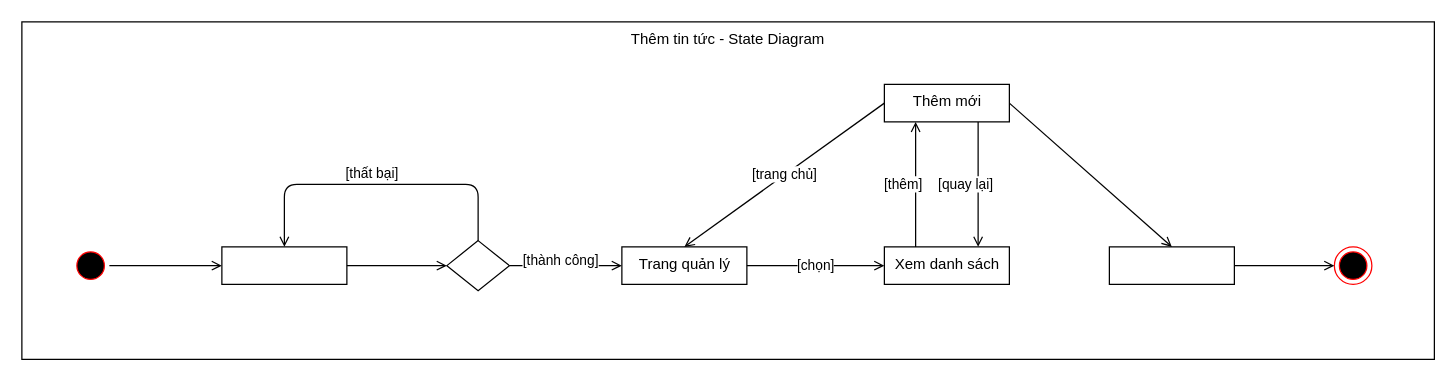
This 1456x381 diagram has some shape labels left out. The shapes that lost their labels are listed below. From the top down, each one's centre as x and y in pixels, then its label:
At point 284,265: "Đăng nhập".
At point 1171,265: "Thêm hoàn tất".
